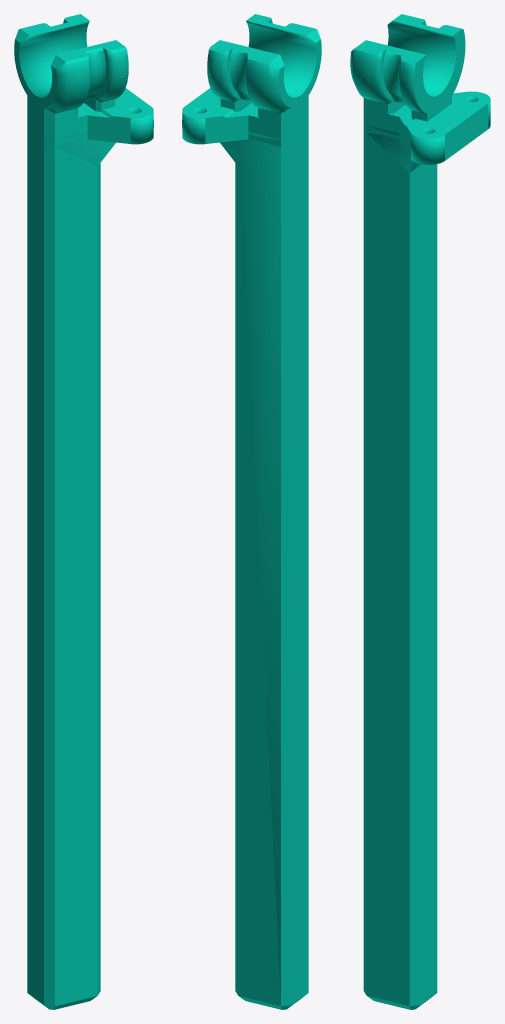
Rendered from holybro_x500_long_leg.dae.
3 views of the same model, side by side, from view 1: azimuth 30°, elevation 25°; view 2: azimuth 150°, elevation 25°; view 3: azimuth 330°, elevation 25° (orthographic).
Visible parts, largest first — view 1: Leg (2) (1) (1); view 2: Leg (2) (1) (1); view 3: Leg (2) (1) (1).
Part boxes in pixels (x1,y1,x2,y2): Leg (2) (1) (1): (14, 14, 153, 1009); Leg (2) (1) (1): (182, 14, 321, 1009); Leg (2) (1) (1): (350, 14, 490, 1009).
Bounding box in the file's own units: 0.0265 × 0.03 × 0.258.
